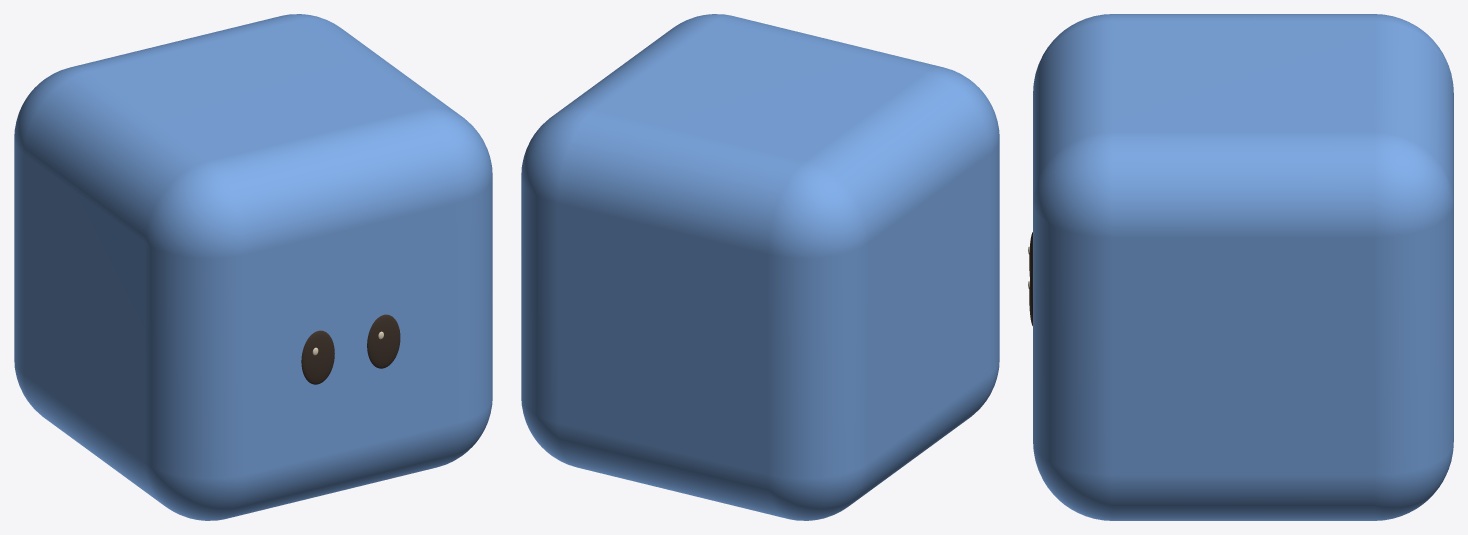
The picture shows the model from 3 angles, left to right: view 1: azimuth 30°, elevation 25°; view 2: azimuth 150°, elevation 25°; view 3: azimuth 270°, elevation 25°; orthographic projection. The views are drawn at different scales.
Visible parts, largest first — view 1: Cube · frosted glass body, Eye L, Eye R; view 2: Cube · frosted glass body; view 3: Cube · frosted glass body.
Boxes of the visible parts, x1,y1,x2,y2 form: Cube · frosted glass body: [14, 14, 492, 520]; Eye L: [301, 330, 334, 384]; Eye R: [367, 314, 400, 368]; Cube · frosted glass body: [521, 14, 999, 520]; Cube · frosted glass body: [1033, 14, 1453, 520].
Size of the model in its own units: 1.8 by 1.8 by 1.82.
